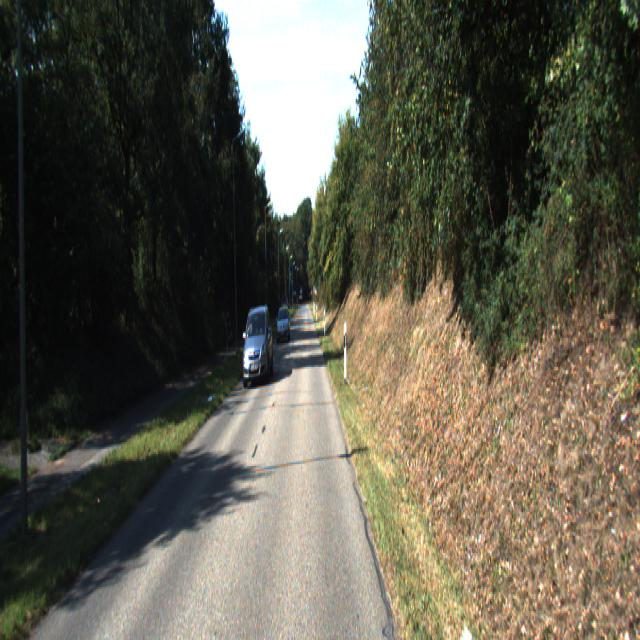Car: (242, 305, 273, 388), (276, 307, 290, 345)
